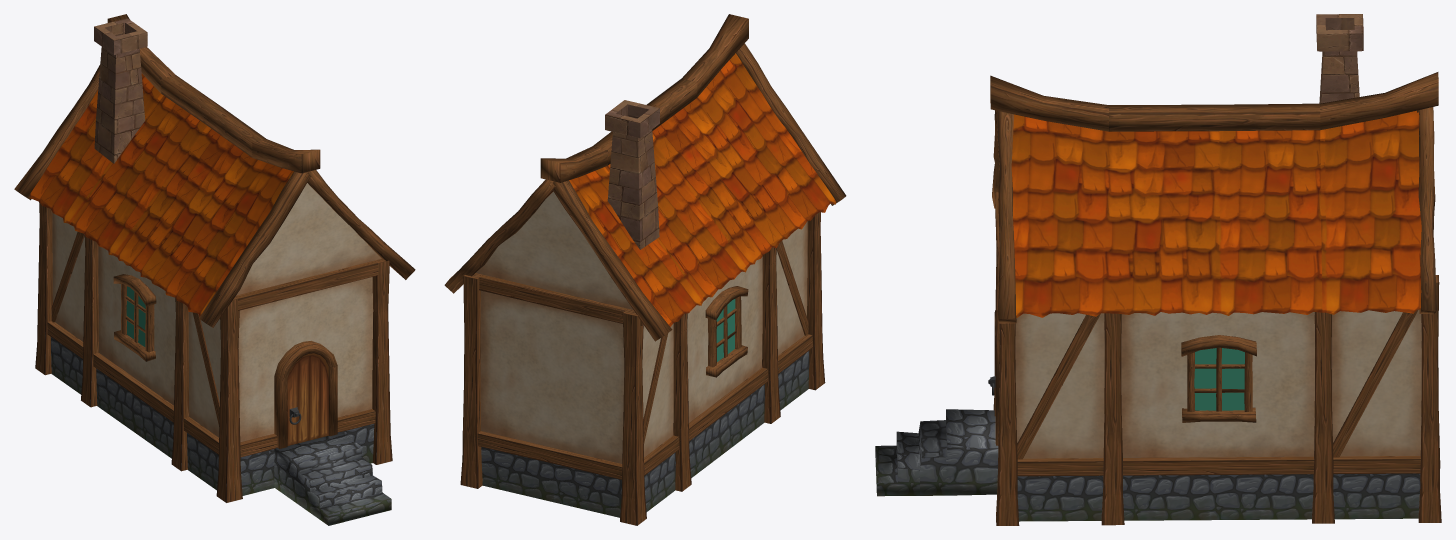
File: casa2.fbx
3 renders of one model, left to right at view 1: azimuth 30°, elevation 25°; view 2: azimuth 150°, elevation 25°; view 3: azimuth 270°, elevation 25°, orthographic. The views are drawn at different scales.
Parts seen in each view (by area): view 1: RH2; view 2: RH2; view 3: RH2.
Part boxes in pixels (box(x1,y1,x2,y2)): RH2: box(14, 14, 415, 525); RH2: box(444, 14, 846, 525); RH2: box(875, 14, 1441, 525).
Bounding box in the file's own units: 290 × 447 × 536.
